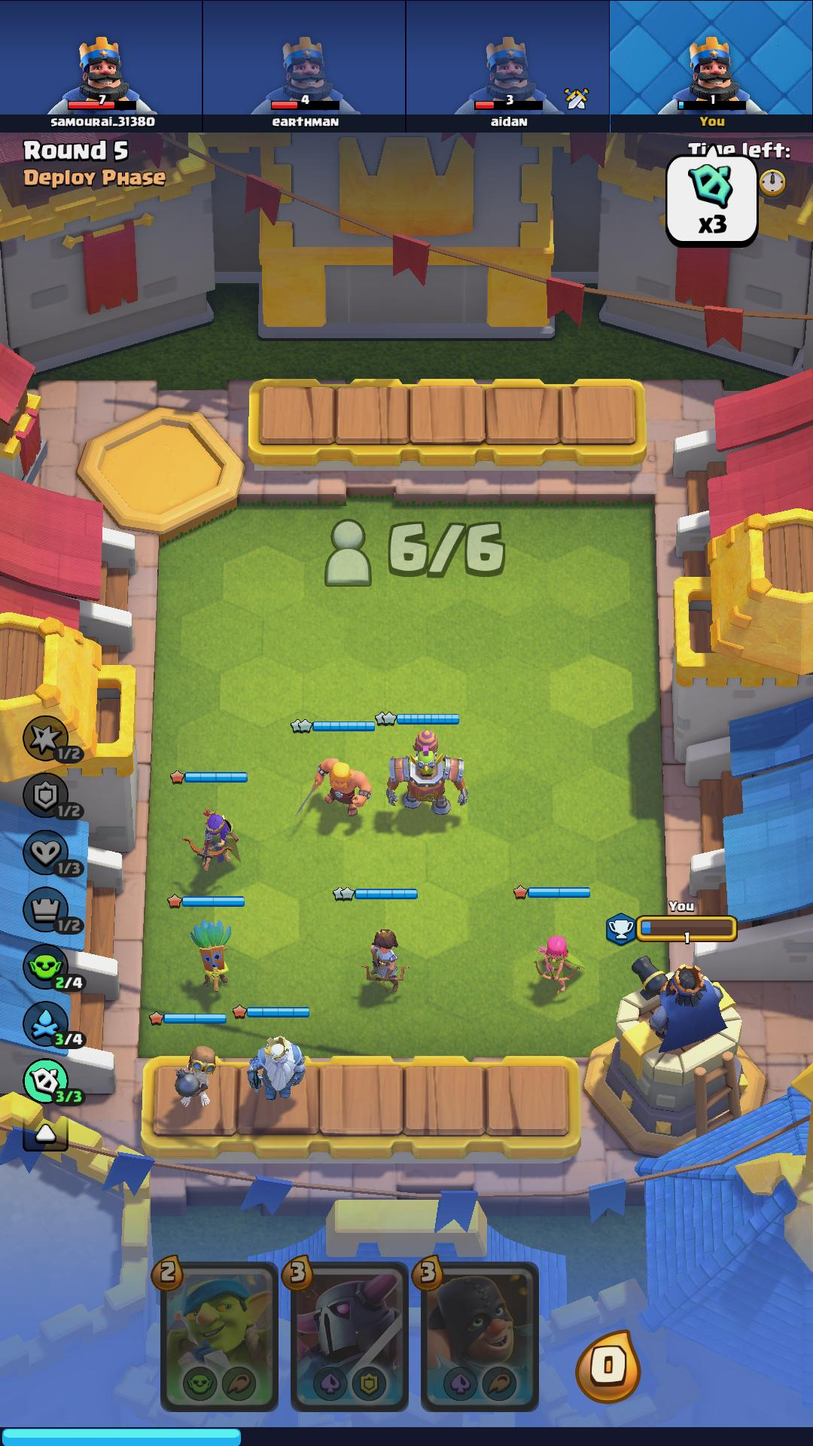archer: (518, 924, 591, 1003)
barbarian: (300, 743, 373, 820)
bomber: (162, 1036, 222, 1108)
dart: (183, 909, 238, 992)
ghost: (241, 1022, 311, 1108)
hand-executioner: (427, 1264, 537, 1408)
hand-pekka: (292, 1263, 409, 1411)
hand-spear: (161, 1260, 279, 1407)
machine: (379, 732, 476, 815)
princess: (345, 921, 412, 1002)
queen: (176, 801, 241, 875)
